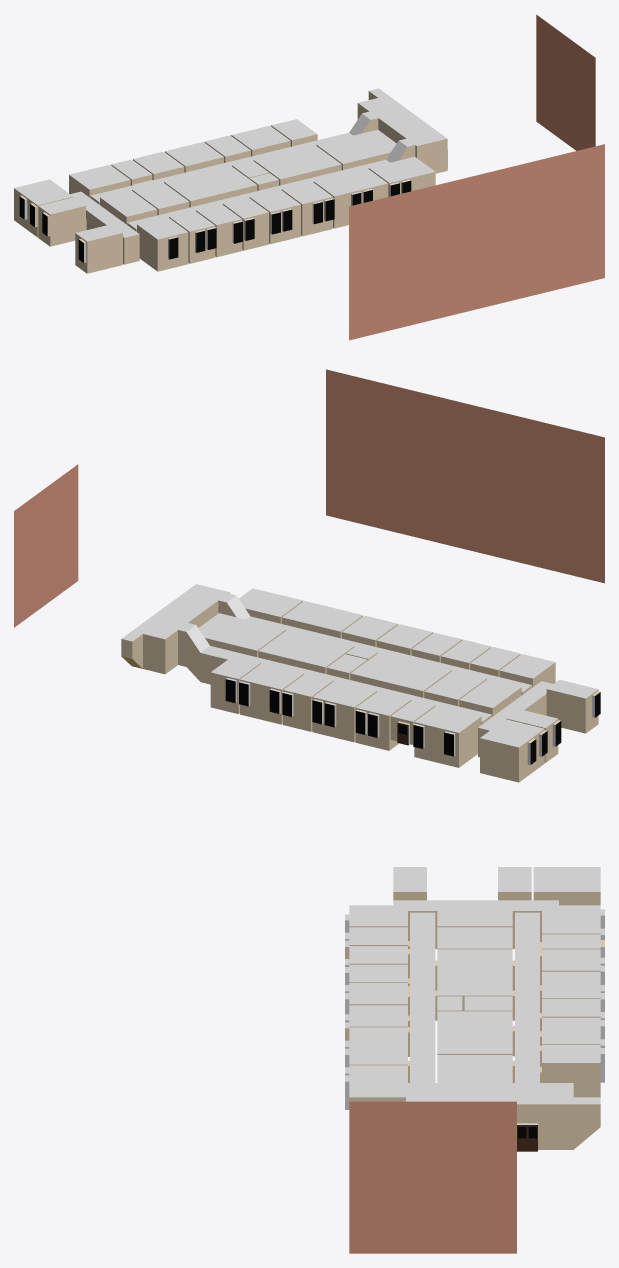
File: AE_draft4_3302.obj
The picture shows the model from 3 angles, top to bottom: view 1: azimuth 30°, elevation 25°; view 2: azimuth 150°, elevation 25°; view 3: azimuth 270°, elevation 25°; orthographic projection. The views are drawn at different scales.
Size of the model in its own units: 2322 by 600 by 1692.
